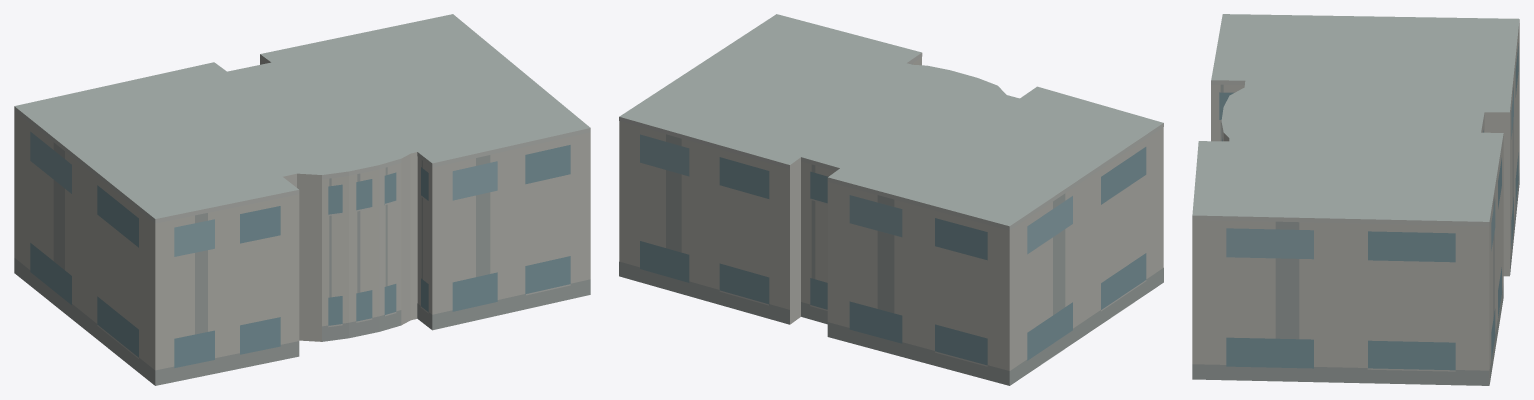
Rendered from survey-upis-32878620.glb.
3 renders of one model, left to right at view 1: azimuth 30°, elevation 25°; view 2: azimuth 150°, elevation 25°; view 3: azimuth 270°, elevation 25°, orthographic. The views are drawn at different scales.
Parts seen in each view (by area): view 1: survey-upis-32878620.tmp; view 2: survey-upis-32878620.tmp; view 3: survey-upis-32878620.tmp.
Boxes of the visible parts, left/top/right/bottom form: survey-upis-32878620.tmp: left=14, top=14, right=590, bottom=385; survey-upis-32878620.tmp: left=619, top=14, right=1163, bottom=385; survey-upis-32878620.tmp: left=1192, top=14, right=1519, bottom=385.
Bounding box in the file's own units: 24.89 × 9.15 × 16.56.
